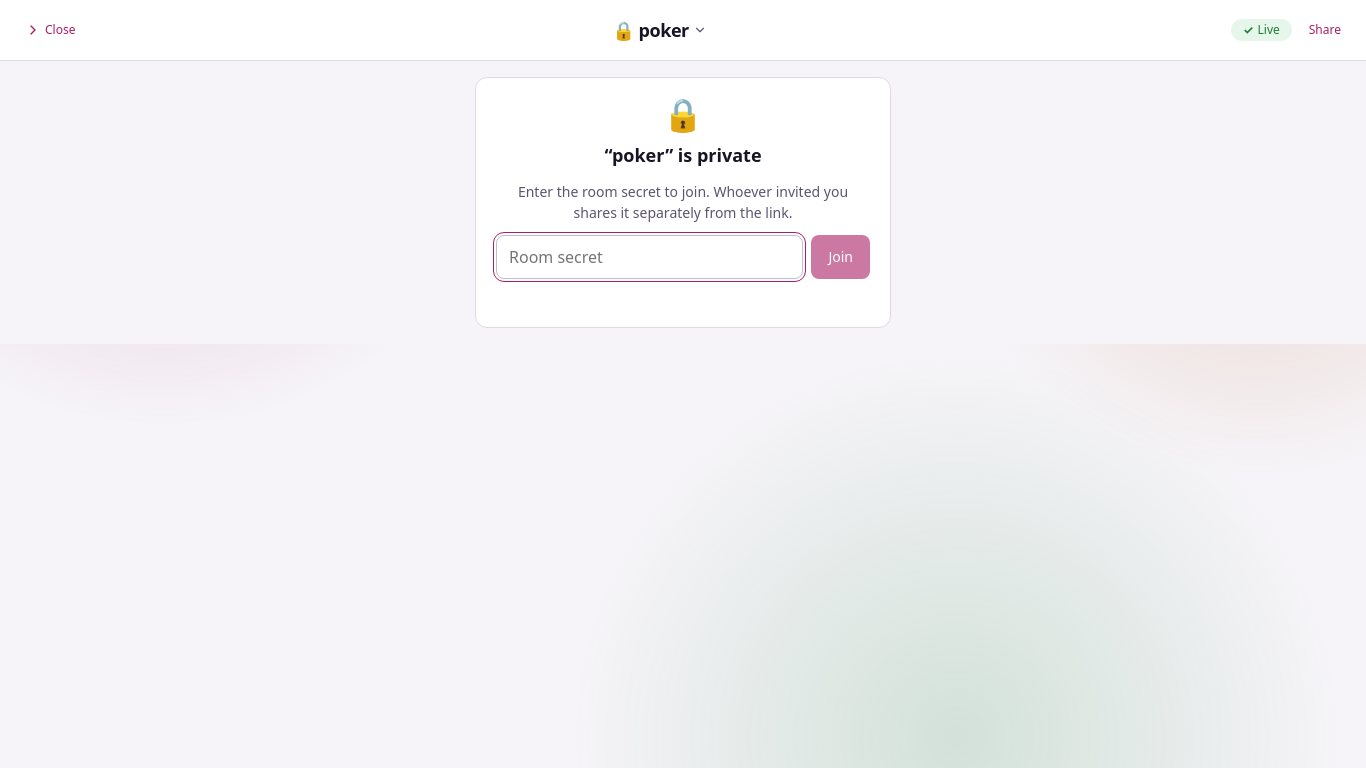
Test case: ChatScreen › CHAT-020: private rooms › reveals the chat body once the secret is entered, and remembers it for the tab
The image size is (1366, 768).
Type "royal" into the password field labelled "Room secret" at (650, 257), box [496, 235, 803, 279]
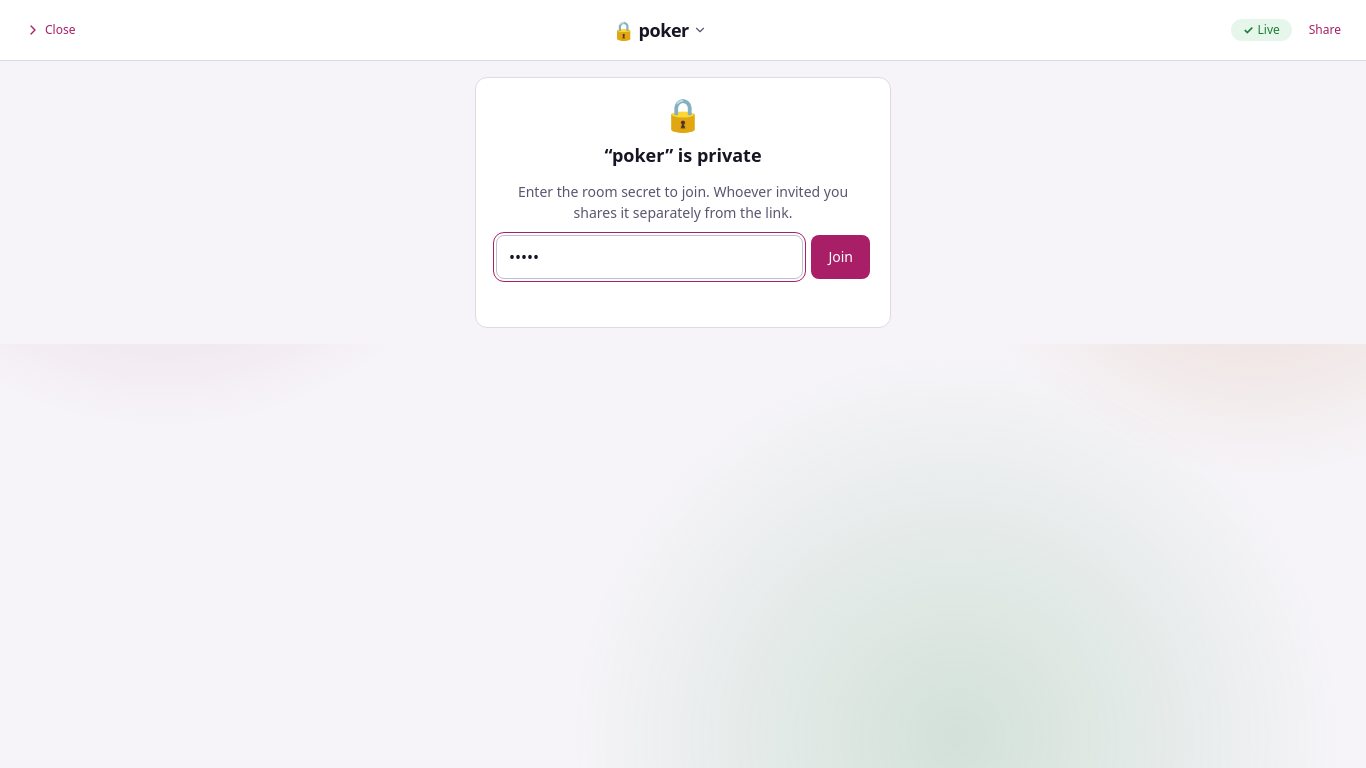
Click the button "Join" at (841, 257), box [811, 235, 870, 279]
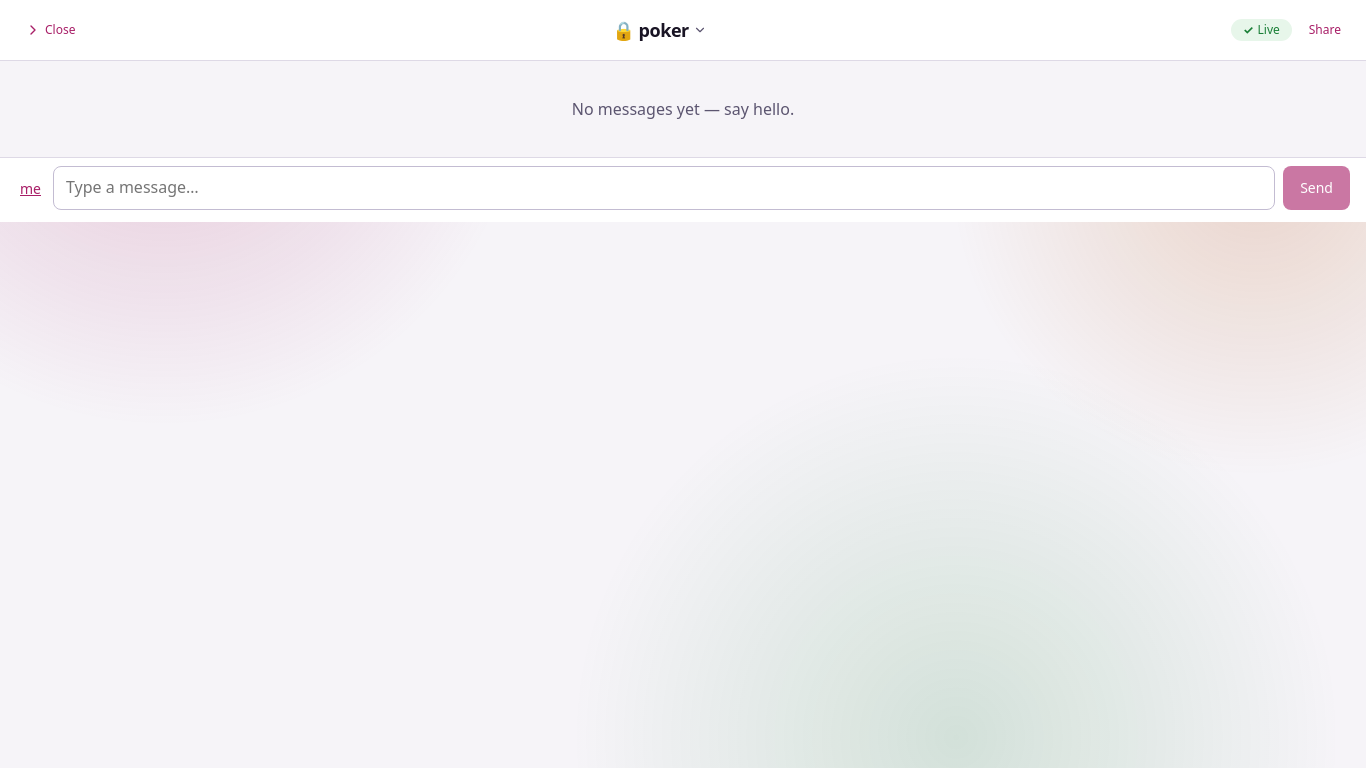
Result: the text "join" is gone
Result: the text box labelled "Type a message…" is shown at [53, 166, 1275, 210]
